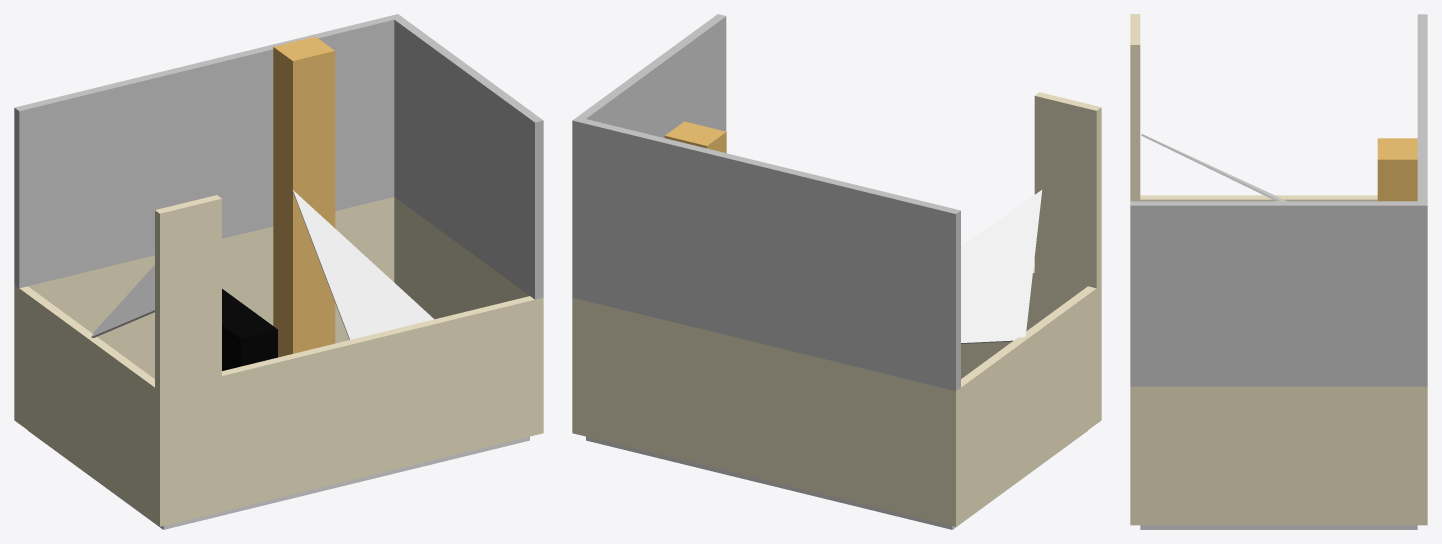
Rendered from Outside-Patio-Model.gltf.
3 renders of one model, left to right at view 1: azimuth 30°, elevation 25°; view 2: azimuth 150°, elevation 25°; view 3: azimuth 270°, elevation 25°, orthographic. The views are drawn at different scales.
Visible parts, largest first — view 1: Part 1, Part 6, Part 4, Part 5, Part 2; view 2: Part 6, Part 1, Part 2, Part 4; view 3: Part 6, Part 1, Part 4, Part 2.
Part boxes in pixels (x1=…): Part 1: x1=14, y1=195, x2=543, y2=526; Part 6: x1=14, y1=14, x2=543, y2=337; Part 4: x1=273, y1=36, x2=433, y2=357; Part 5: x1=222, y1=289, x2=277, y2=370; Part 2: x1=28, y1=430, x2=529, y2=529; Part 6: x1=572, y1=14, x2=1042, y2=390; Part 1: x1=572, y1=92, x2=1101, y2=526; Part 2: x1=586, y1=430, x2=1087, y2=529; Part 4: x1=664, y1=121, x2=726, y2=153; Part 6: x1=1130, y1=14, x2=1427, y2=386; Part 1: x1=1130, y1=14, x2=1427, y2=525; Part 4: x1=1377, y1=138, x2=1417, y2=201; Part 2: x1=1140, y1=525, x2=1417, y2=529.
Size of the model in its own units: 0.5761 by 0.4648 by 0.3783.
